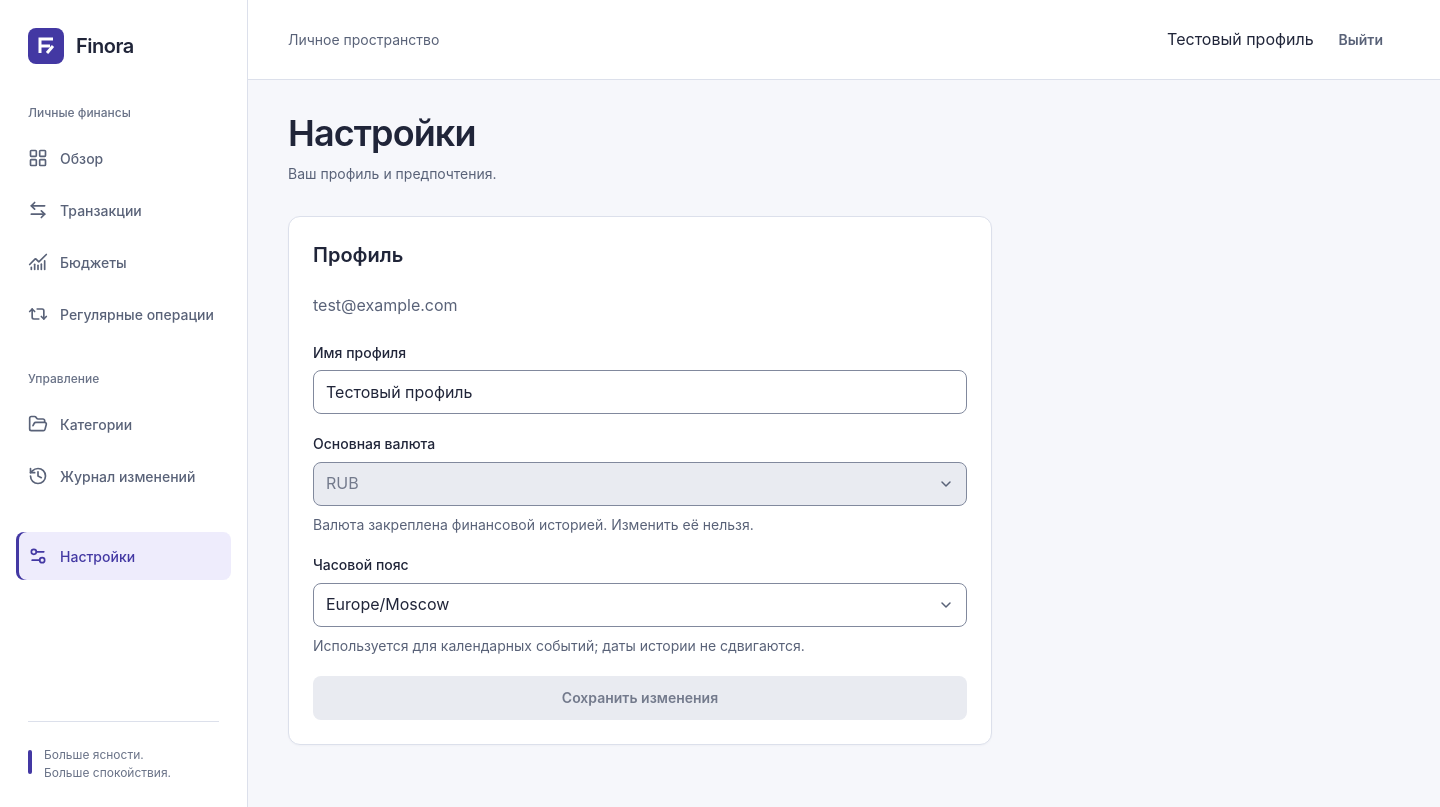
Test case: профиль сохраняет реальные настройки, locked currency недоступна, success объявляется
Expected: the dropdown labelled "Основная валюта" is disabled, x1=313 y1=462 x2=967 y2=506
Replace the text in the field labelled "Имя профиля" with "Новое имя" at (640, 392), box x1=313 y1=370 x2=967 y2=414
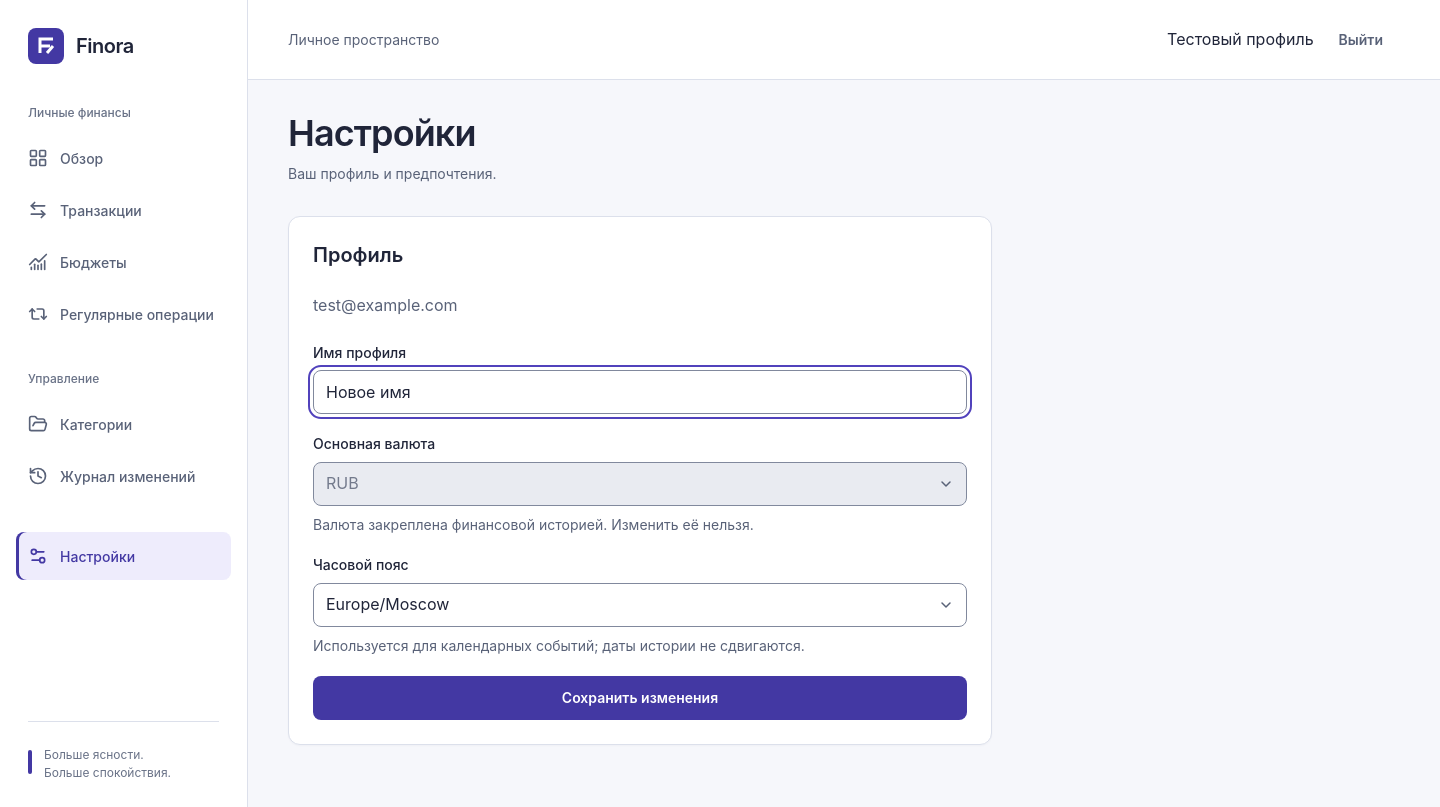
Select "UTC" in the dropdown labelled "Часовой пояс" at (640, 605), box x1=313 y1=583 x2=967 y2=627
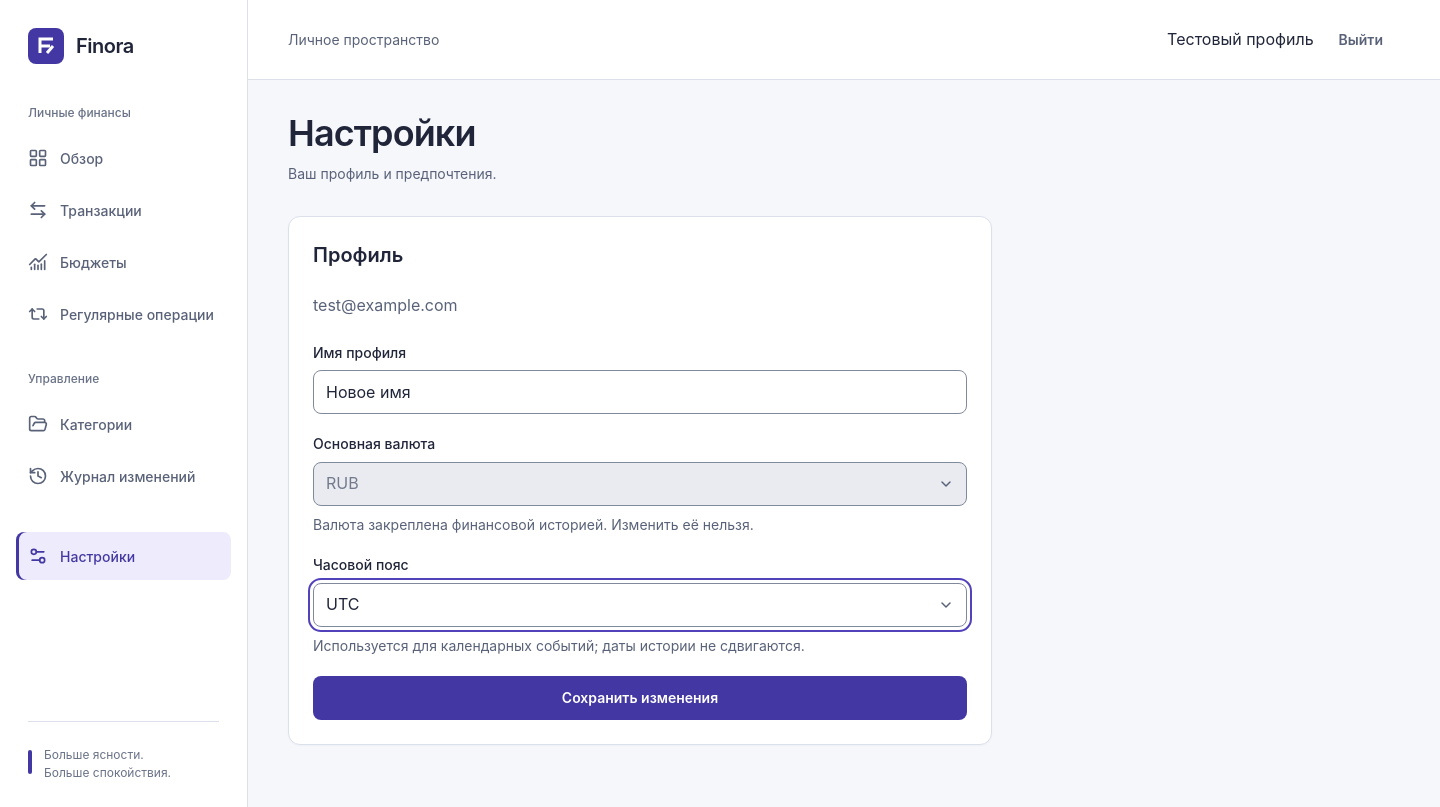
Click the button "Сохранить изменения" at (640, 698), box x1=313 y1=676 x2=967 y2=720
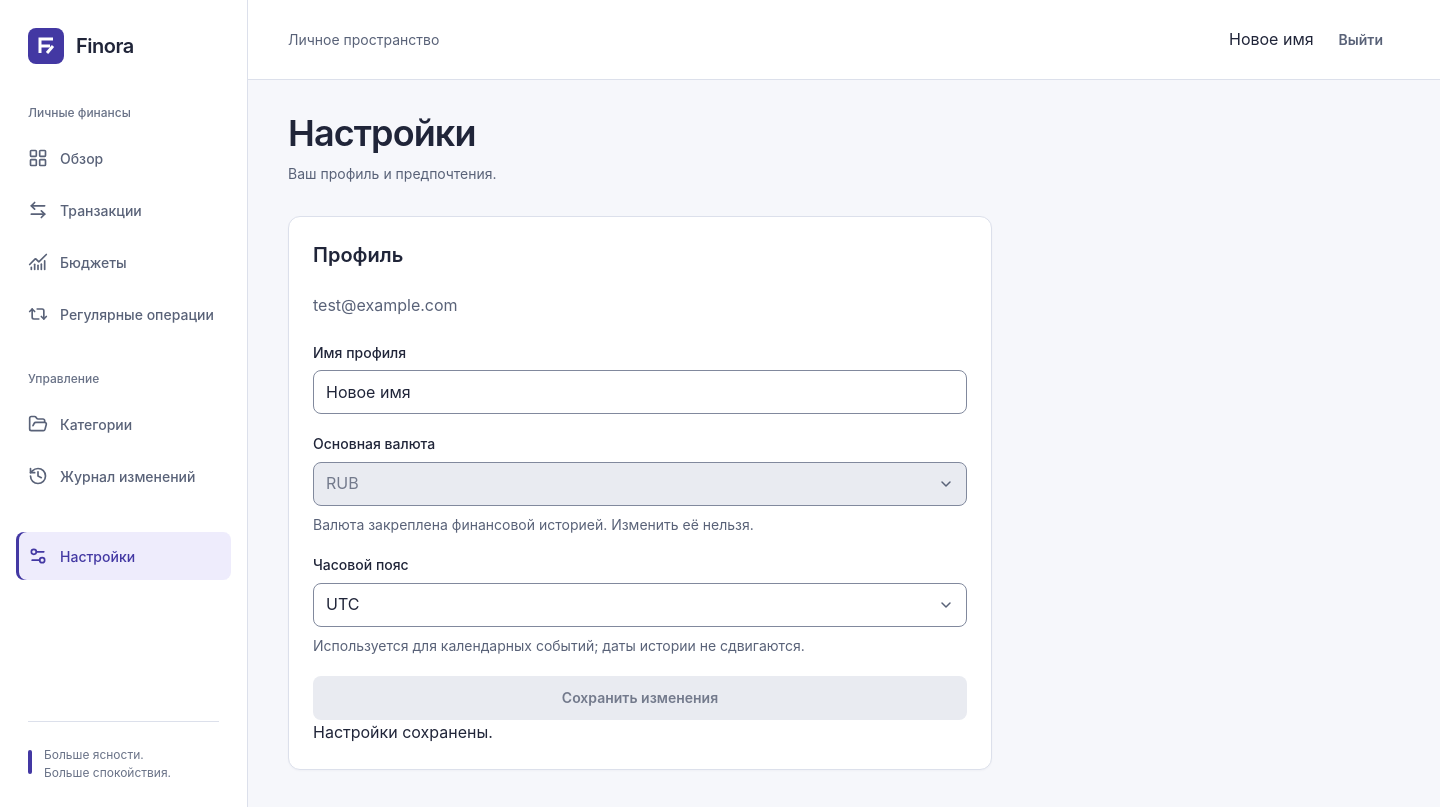
Expected: the text "Настройки сохранены." is shown, x1=313 y1=722 x2=493 y2=742
